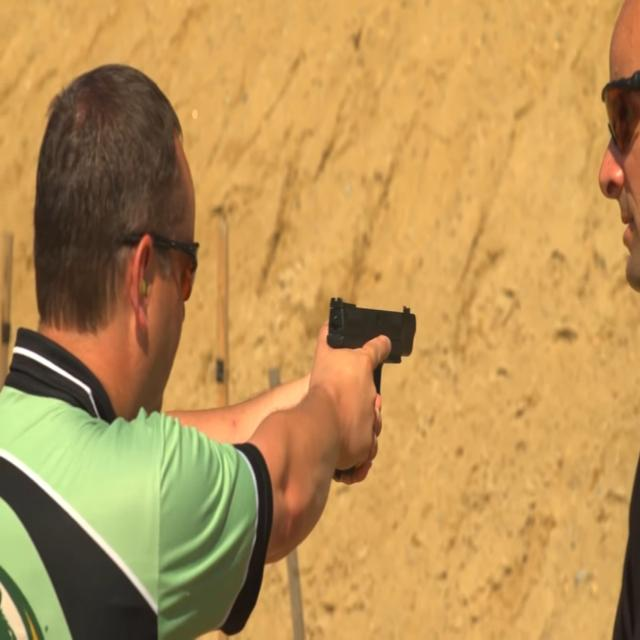Gun_Holder: (296, 263, 425, 472)
Person: (8, 56, 382, 640)
